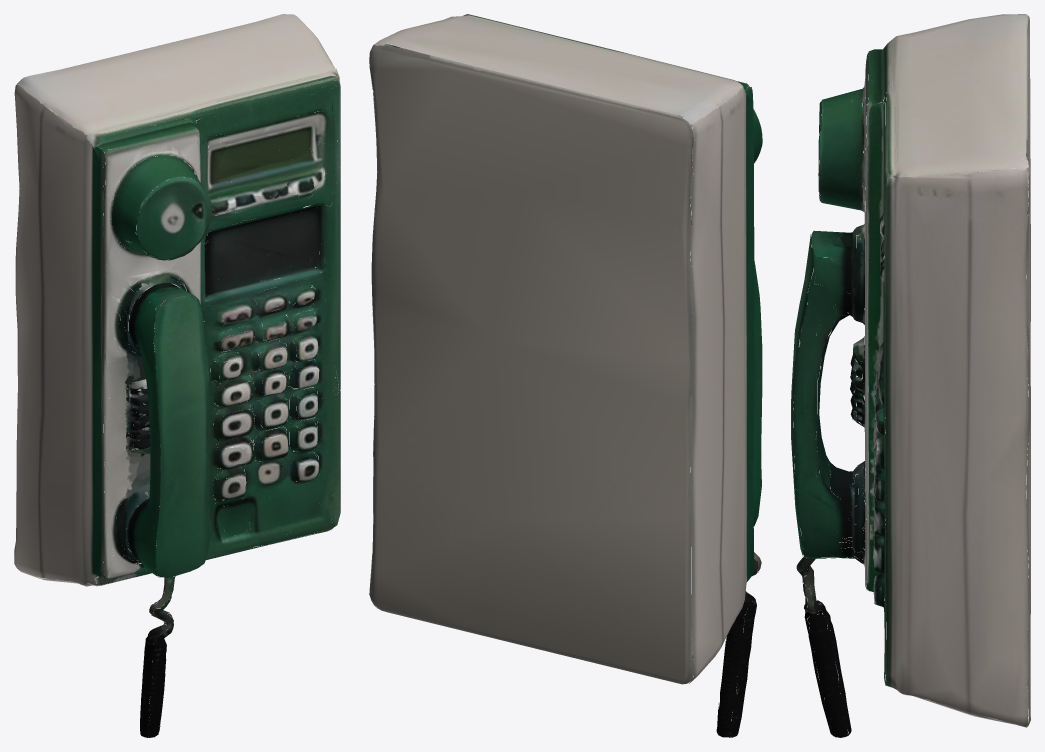
The model's file is phone.glb.
3 renders of one model, left to right at view 1: azimuth 30°, elevation 25°; view 2: azimuth 150°, elevation 25°; view 3: azimuth 270°, elevation 25°, orthographic. The views are drawn at different scales.
Visible parts, largest first — view 1: phone; view 2: phone; view 3: phone.
Part boxes in pixels (left/top/right/bottom): phone: left=14, top=14, right=340, bottom=737; phone: left=369, top=14, right=762, bottom=737; phone: left=791, top=14, right=1030, bottom=737.
Size of the model in its own units: 0.465 by 0.95 by 0.2968.
1 material, 1 textured.
